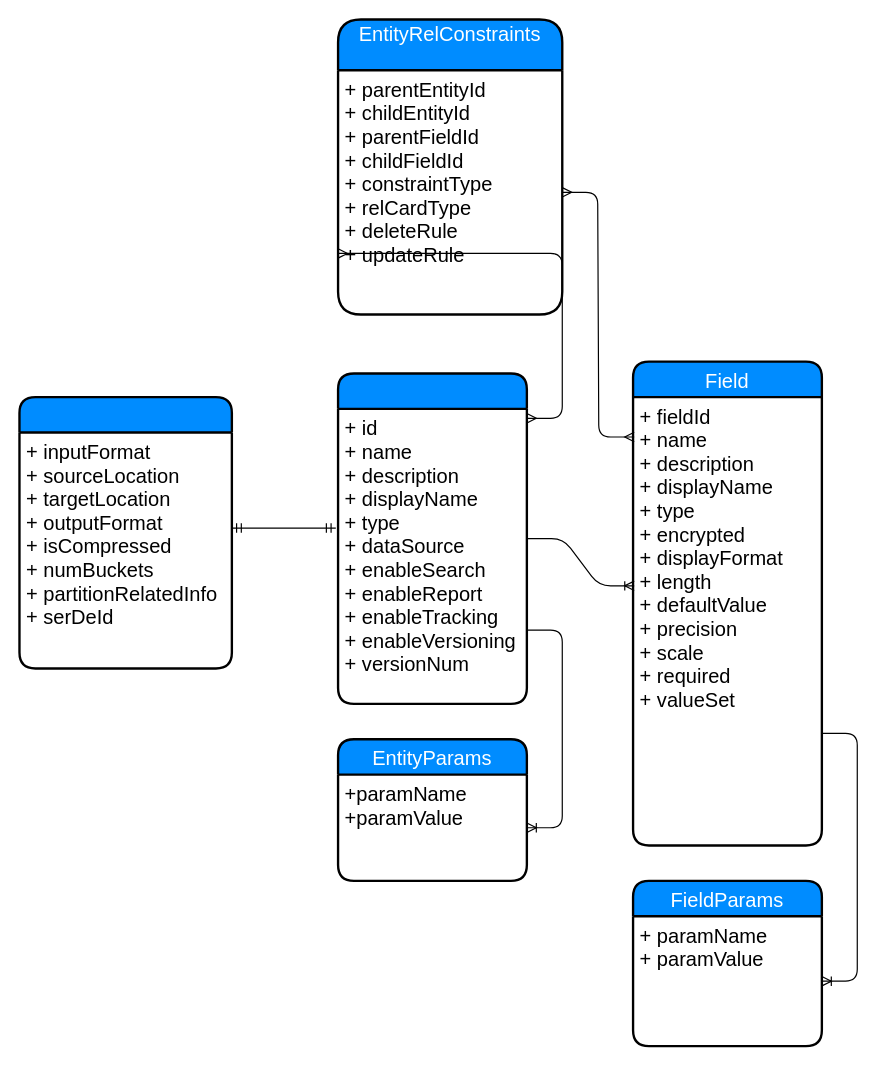
Some shapes in this 877 by 1066 pixel diagram are drawn without their labels. The box of each missing label's shape, as (x1, y1, x2, y2) in pixels:
Entity: (336, 372, 527, 704)
EntityStorage: (18, 395, 232, 669)
